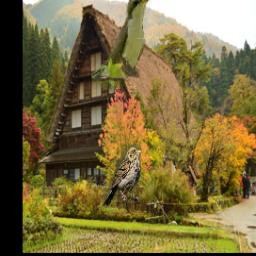Cuckoo: (91, 0, 152, 91)
Sparrow: (102, 144, 141, 210)
